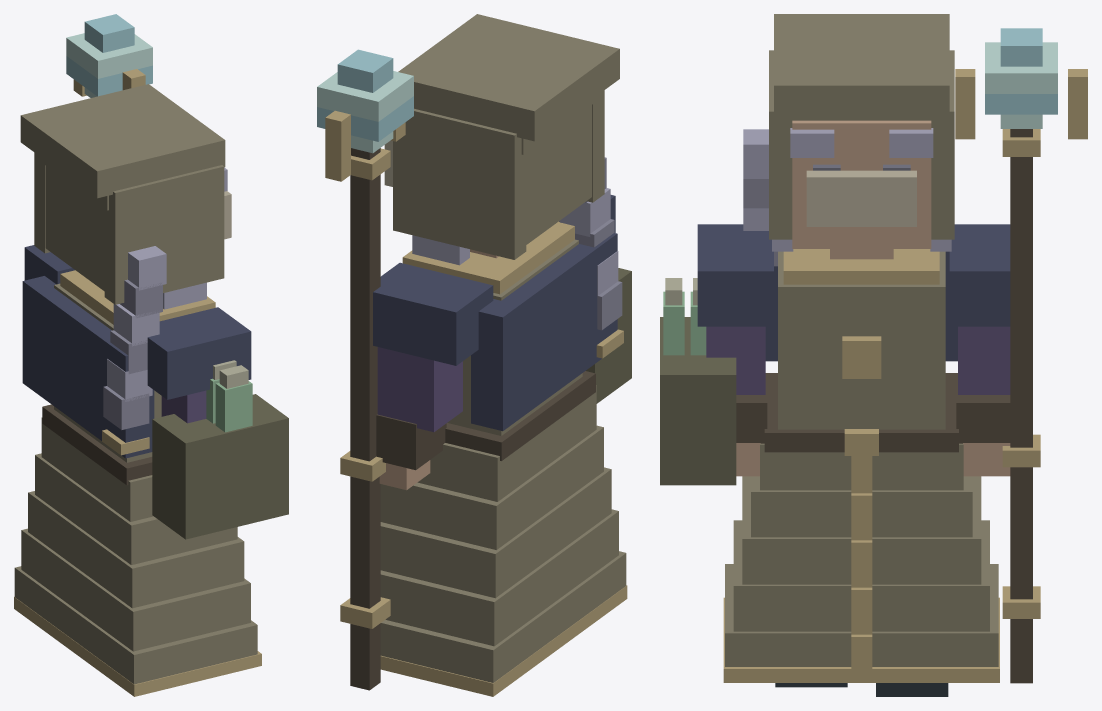
Rendered from veil-mender.glb.
The picture shows the model from 3 angles, left to right: view 1: azimuth 30°, elevation 25°; view 2: azimuth 150°, elevation 25°; view 3: azimuth 270°, elevation 25°; orthographic projection. The views are drawn at different scales.
Visible parts, largest first — view 1: Robe, Hood, MedicineSatchel, Mantle, Shoulders, Braid, Hair, StaffCrystal, RobeHem, Belt, Vials, Collar (+6 smaller); view 2: Robe, Hood, Mantle, StaffShaft, Shoulders, StaffCrystal, Hair, Sleeves, Collar, Belt, RobeHem, Braid (+7 smaller); view 3: Robe, Hood, Torso, Shoulders, StaffShaft, MedicineSatchel, Head, Sleeves, StaffCrystal, Mask, Belt, Collar (+15 smaller).
Boxes of the visible parts, box(x1,y1,x2,y2) form: Robe: box(14, 417, 257, 684); Hood: box(20, 84, 225, 304); MedicineSatchel: box(152, 394, 288, 539); Mantle: box(22, 276, 154, 458); Shoulders: box(24, 245, 251, 399); Braid: box(103, 246, 166, 429); Hair: box(39, 156, 108, 291); StaffCrystal: box(66, 14, 152, 97); RobeHem: box(14, 596, 261, 696); Belt: box(42, 404, 152, 485); Vials: box(206, 378, 252, 432); Collar: box(60, 270, 215, 324); Robe: box(380, 385, 626, 682); Hood: box(393, 14, 619, 259); Mantle: box(471, 233, 617, 431); StaffShaft: box(350, 148, 380, 690); Shoulders: box(373, 195, 615, 365); StaffCrystal: box(317, 49, 413, 153); Hair: box(521, 94, 599, 244); Sleeves: box(377, 347, 462, 432); Collar: box(402, 221, 574, 294); Belt: box(445, 371, 595, 460); RobeHem: box(380, 585, 627, 696); Braid: box(559, 157, 622, 330); Robe: box(725, 443, 998, 666); Hood: box(769, 14, 954, 239); Torso: box(778, 251, 945, 429); Shoulders: box(697, 224, 1010, 326); StaffShaft: box(1010, 129, 1032, 683); MedicineSatchel: box(660, 317, 736, 485); Head: box(792, 120, 931, 248); Sleeves: box(706, 326, 1010, 394); StaffCrystal: box(985, 28, 1057, 128); Mask: box(806, 170, 916, 226); Belt: box(764, 373, 958, 452); Collar: box(783, 249, 939, 284).
Bounding box in the file's own units: 2.59 × 9.44 × 5.62.
